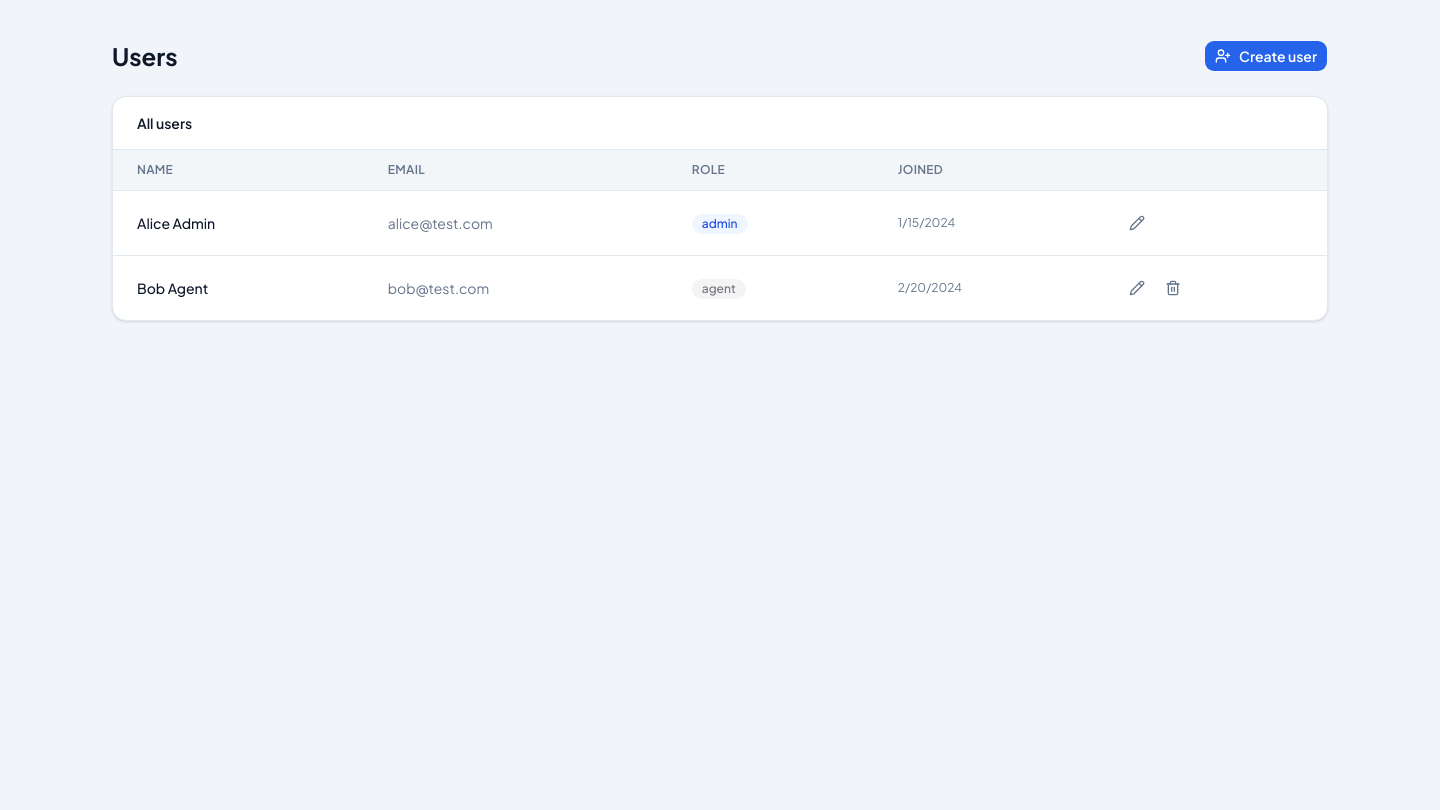
Test: UsersPage › shows a server error when the create request fails
The width and height of the screenshot is (1440, 810).
expect the text "Alice Admin" is shown: met, box [113,190,364,256]
Click the button "Create user" at (1266, 56), box [1204,40,1328,72]
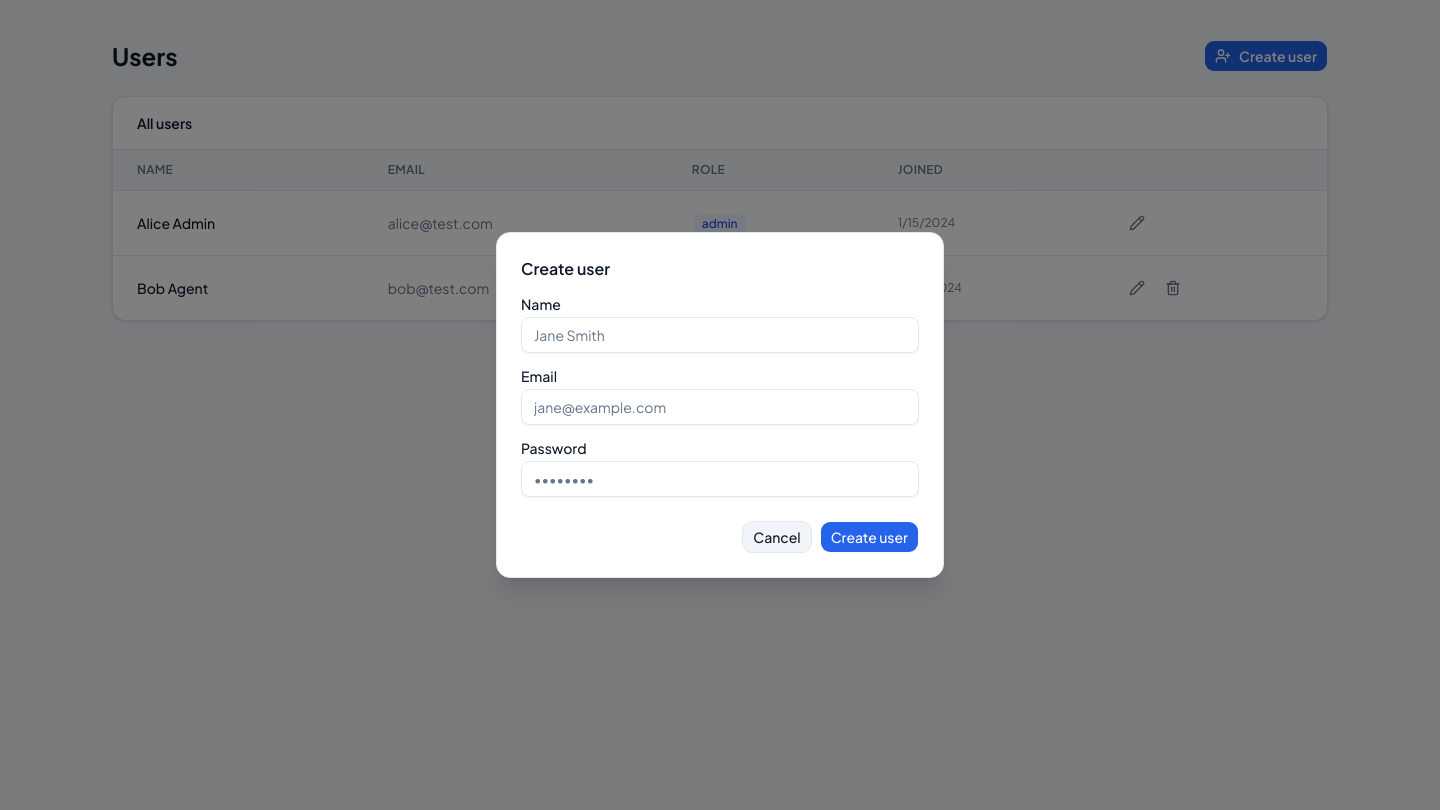
Type "Alice Admin" into the field labelled "Name" at (720, 335), box [521,317,919,353]
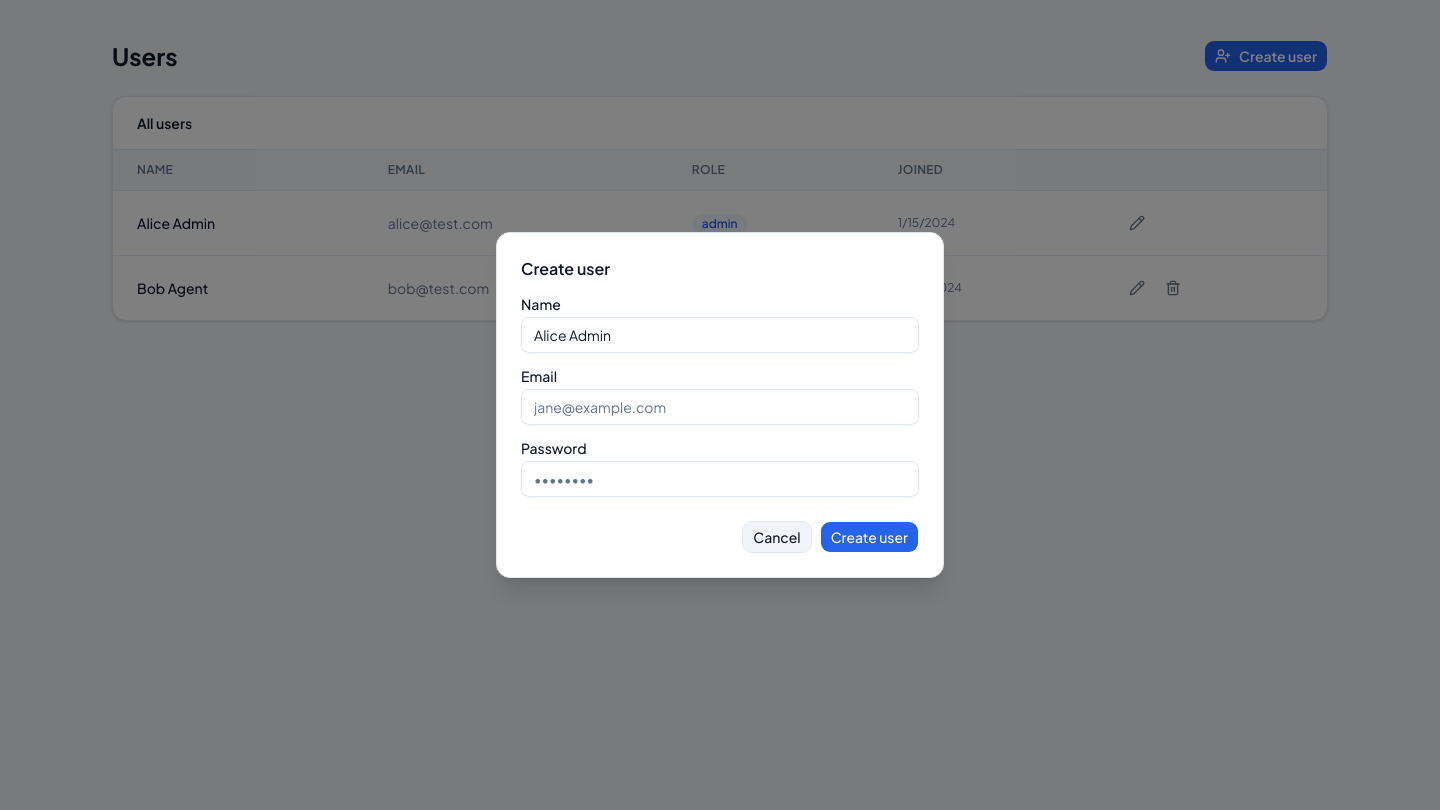
Type "alice@test.com" into the field labelled "Email" at (720, 407), box [521,389,919,425]
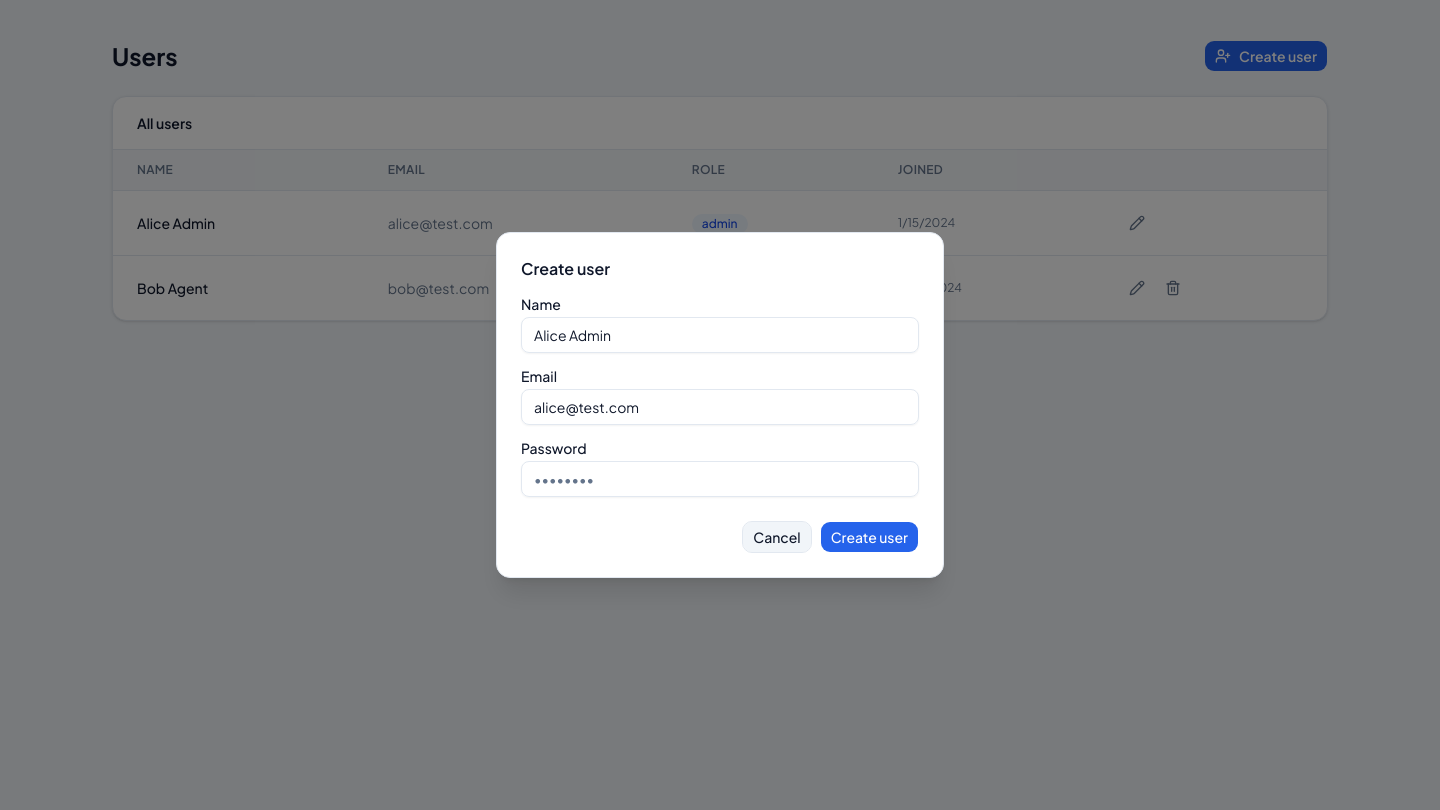
Type "securepass" into the password field labelled "Password" at (720, 479), box [521,461,919,497]
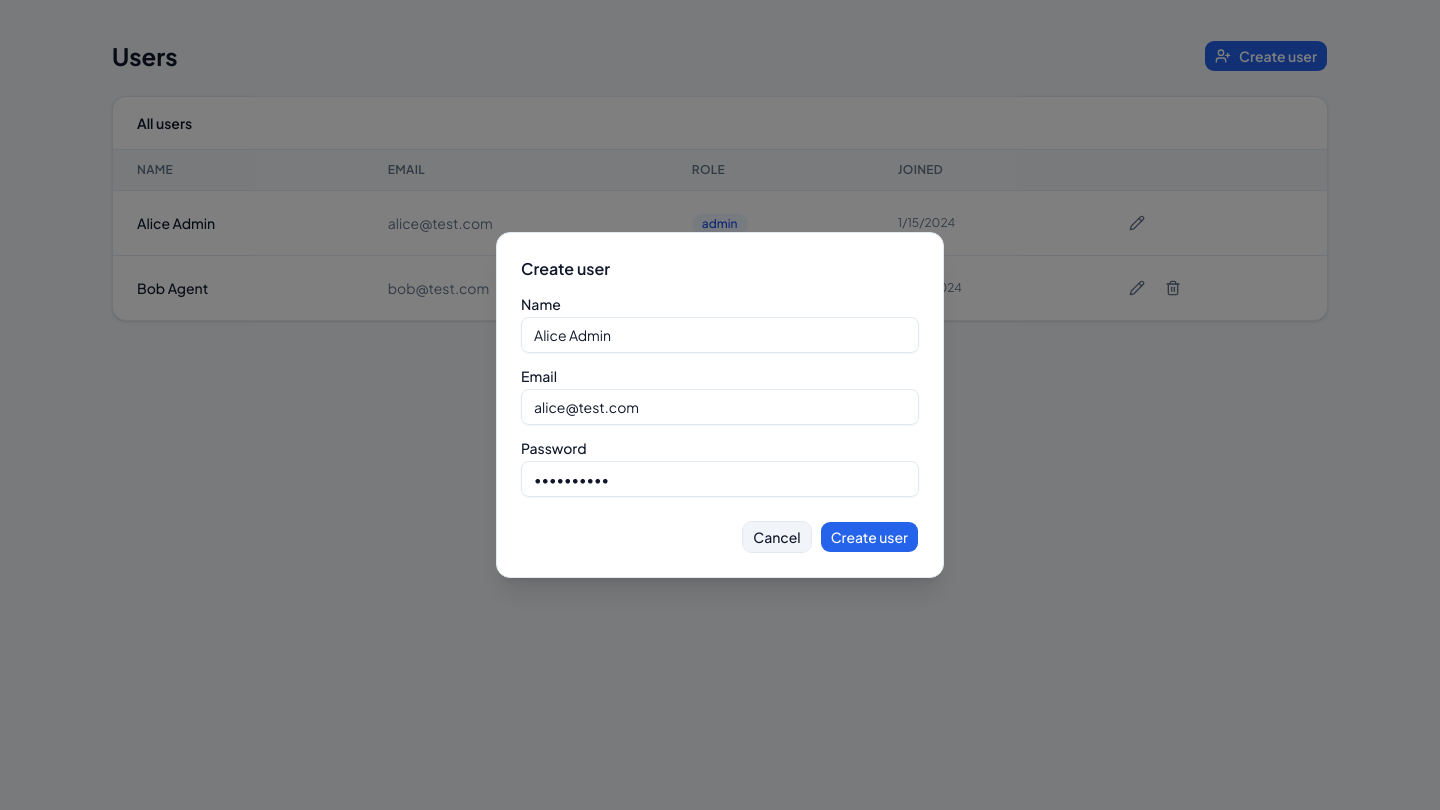
Submit the form, box [521,297,919,553]
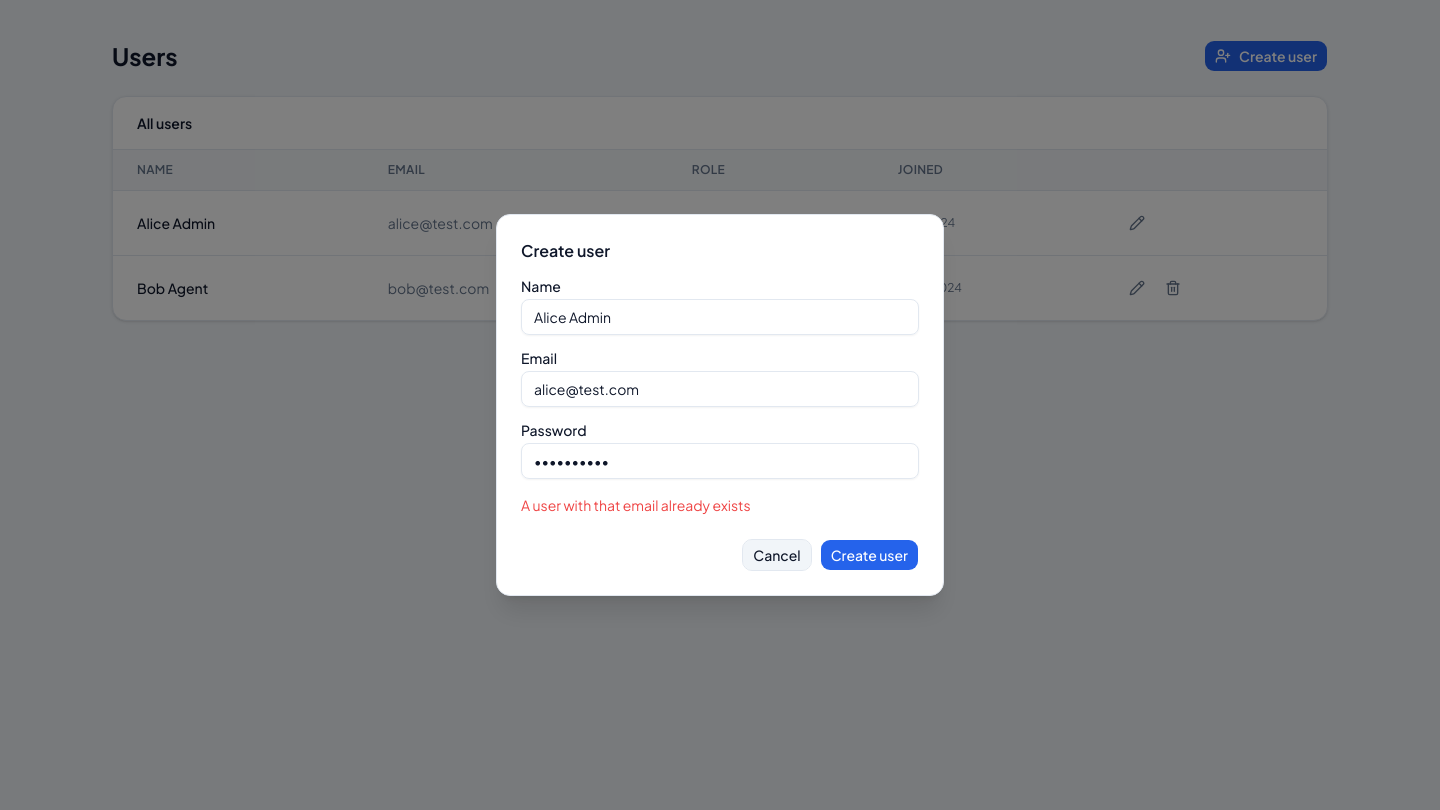
expect the text "A user with that email already exists" is shown: met, box [521,496,751,514]
